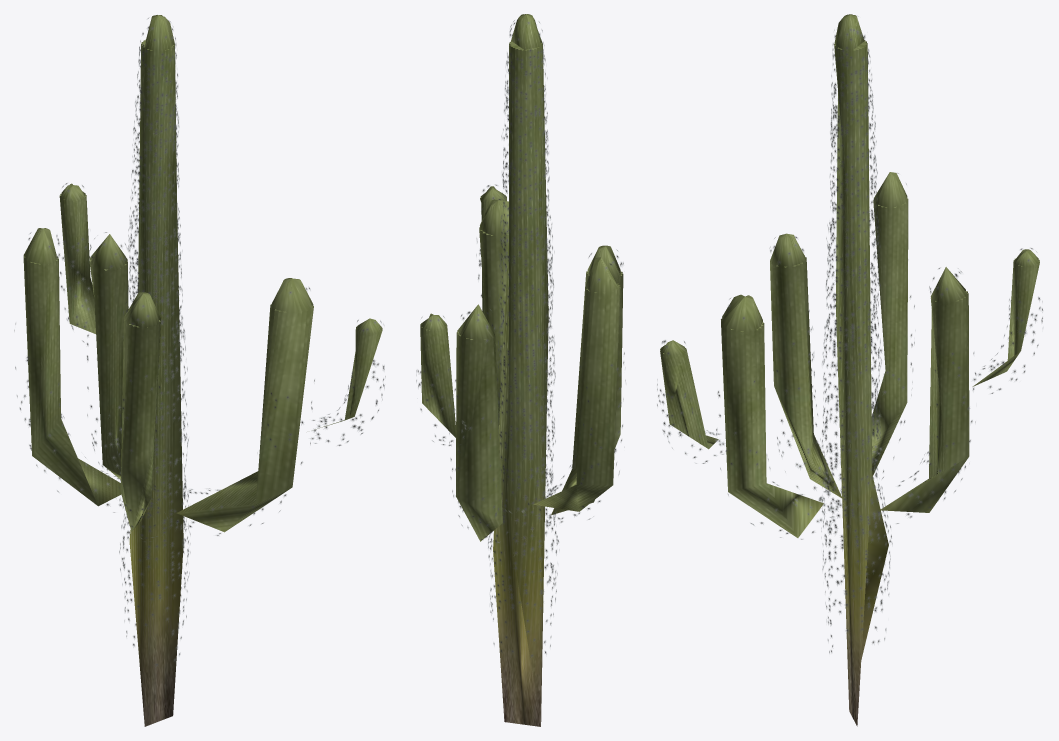
The model's file is cactus_saguaro_3.glb.
3 views of the same model, side by side, from view 1: azimuth 30°, elevation 25°; view 2: azimuth 150°, elevation 25°; view 3: azimuth 270°, elevation 25° (orthographic).
Parts seen in each view (by area): view 1: prop; view 2: prop; view 3: prop.
Part boxes in pixels (x1,y1,x2,y2): prop: (14,15,385,726); prop: (416,14,625,726); prop: (657,14,1042,726).
Bounding box in the file's own units: 4.06 × 10.7 × 5.37.
3 materials, 3 textured.
